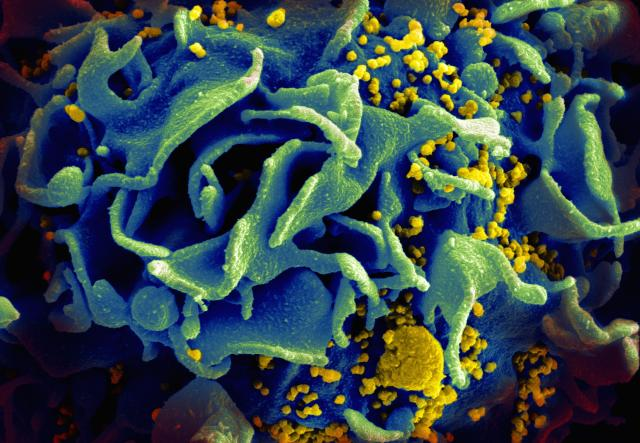COVID19: (288, 16, 550, 328)
